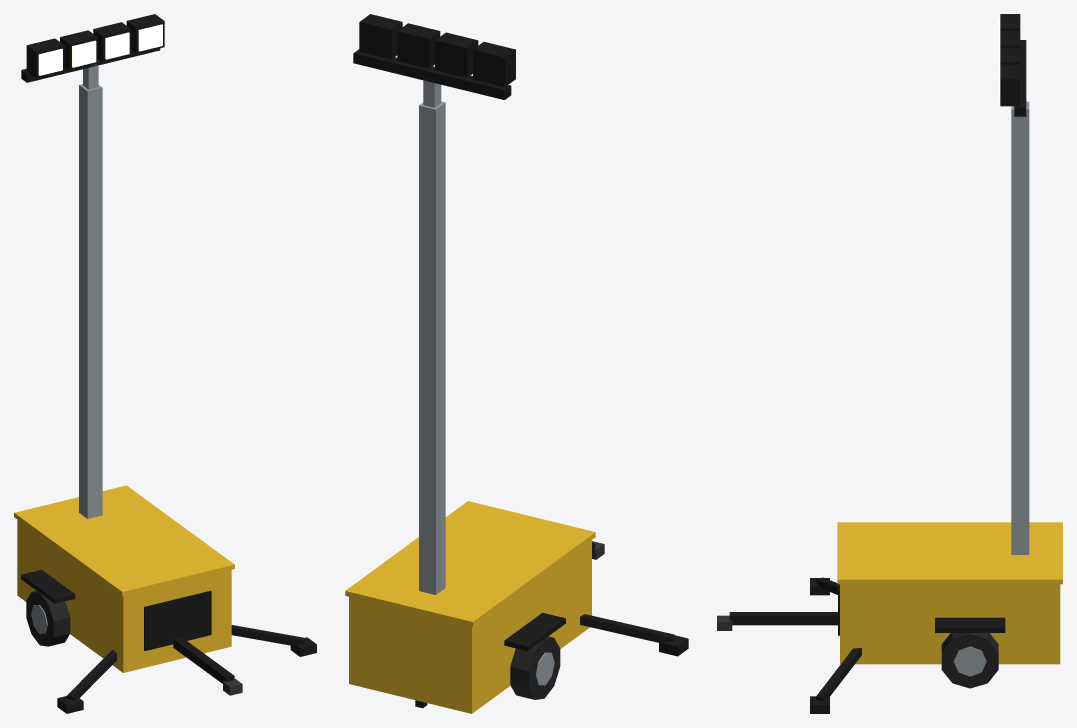
Rendered from Mining_LightTower.fbx.
3 views of the same model, side by side, from view 1: azimuth 30°, elevation 25°; view 2: azimuth 150°, elevation 25°; view 3: azimuth 270°, elevation 25° (orthographic). The views are drawn at different scales.
Parts seen in each view (by area): view 1: Mining_LightTower; view 2: Mining_LightTower; view 3: Mining_LightTower.
Part boxes in pixels (x1,y1,x2,y2): Mining_LightTower: (14,14,316,713); Mining_LightTower: (345,14,688,713); Mining_LightTower: (717,14,1062,713).
Bounding box in the file's own units: 3 × 6.65 × 3.45.
